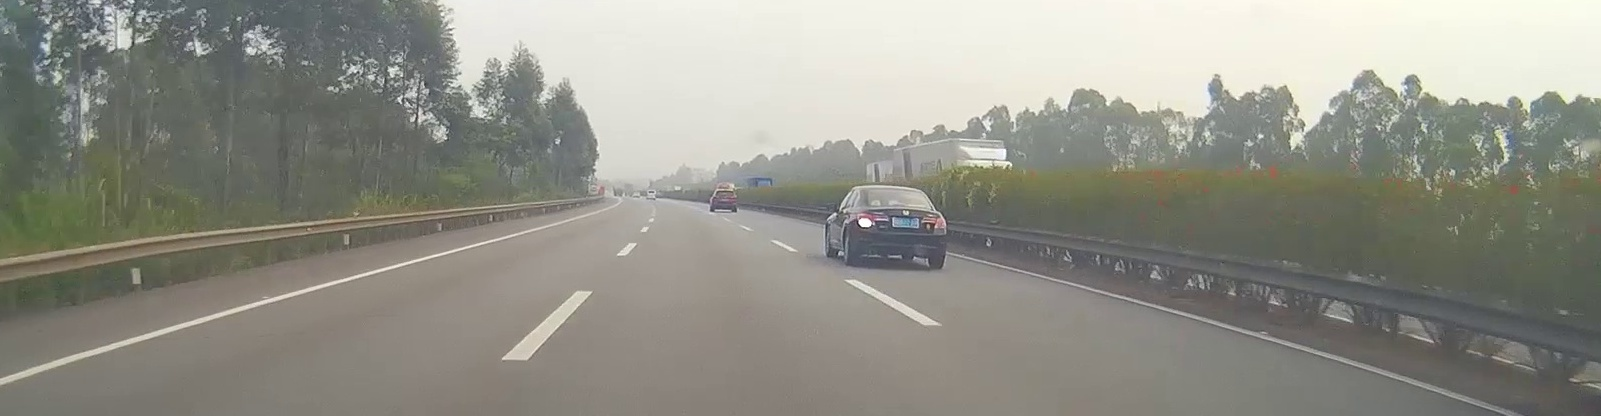L_light: (857, 214, 890, 227)
R_light: (922, 217, 947, 229)
T_light: (889, 189, 900, 193)
day-left: (853, 185, 947, 269)
